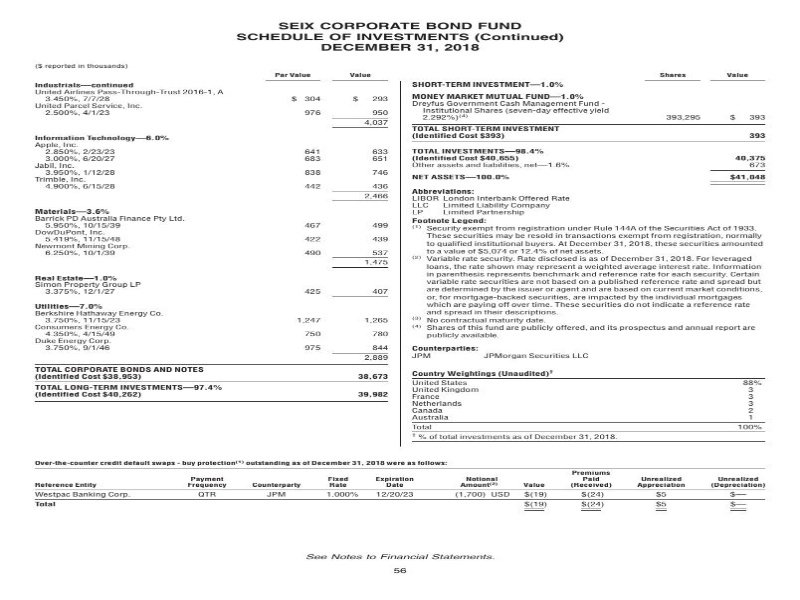table: (392, 66, 788, 460), (20, 55, 407, 451)
